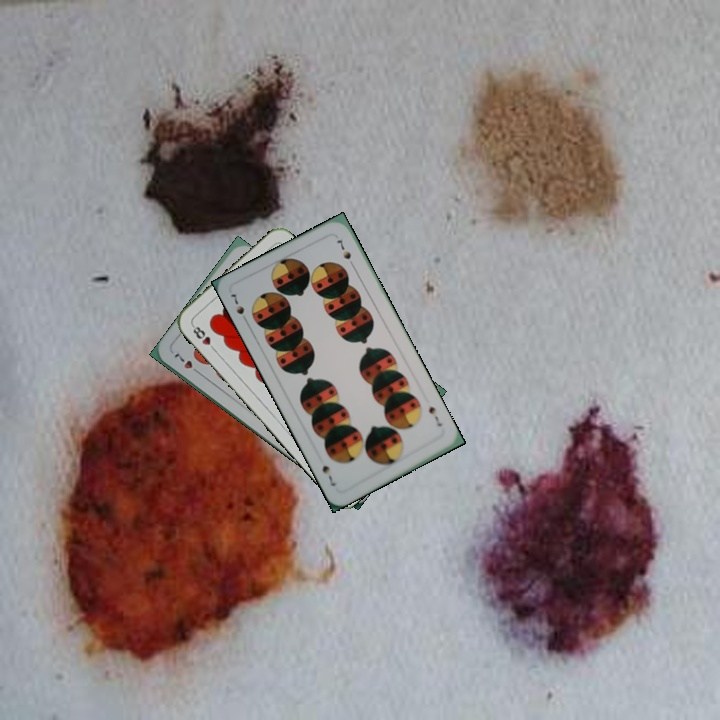H7: (170, 347, 204, 377)
H8: (188, 321, 219, 354)
S7: (227, 289, 251, 326), (424, 402, 445, 429)
